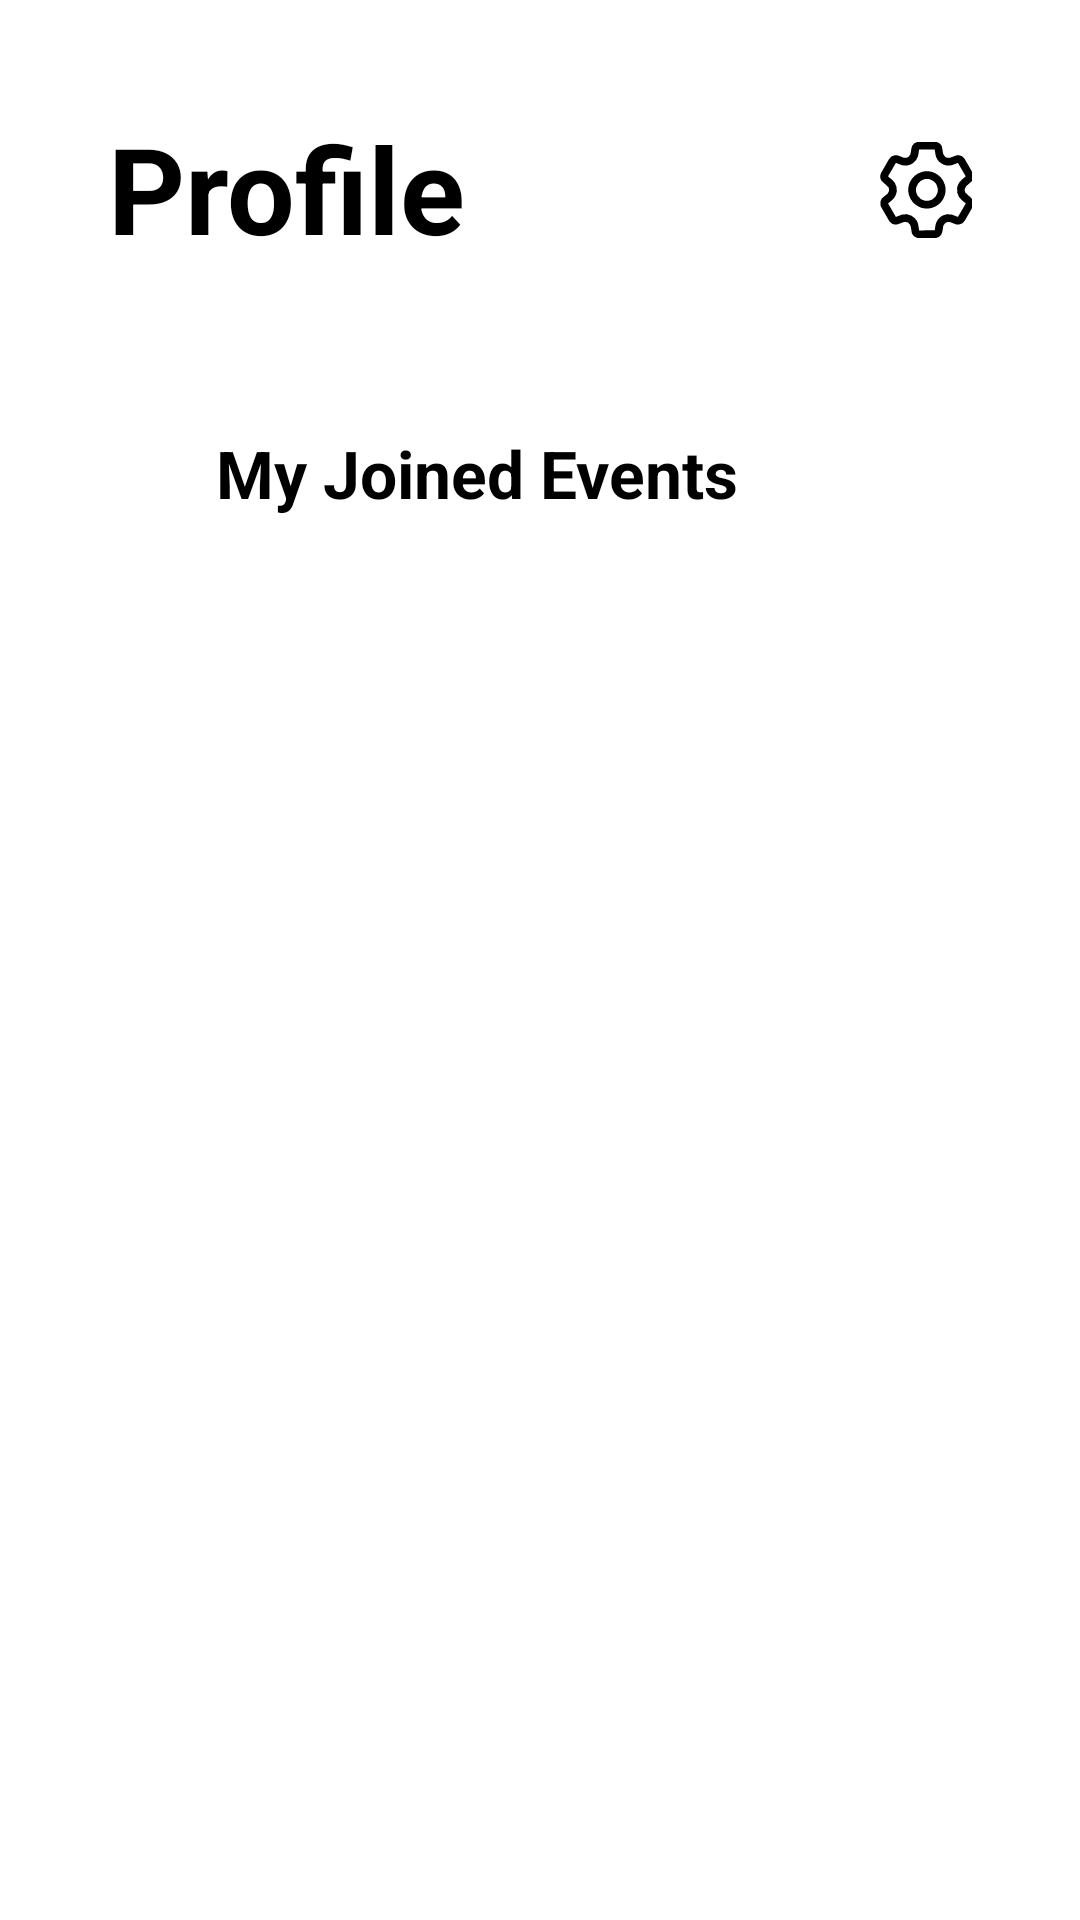

Where icons sit on this 1080*1920 app screen, as bbox=(x1, y1, x2, y2):
Settings: bbox=(880, 142, 972, 238)
